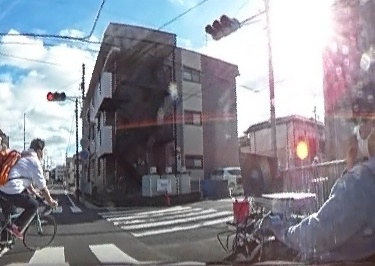person: (303, 78, 375, 266)
